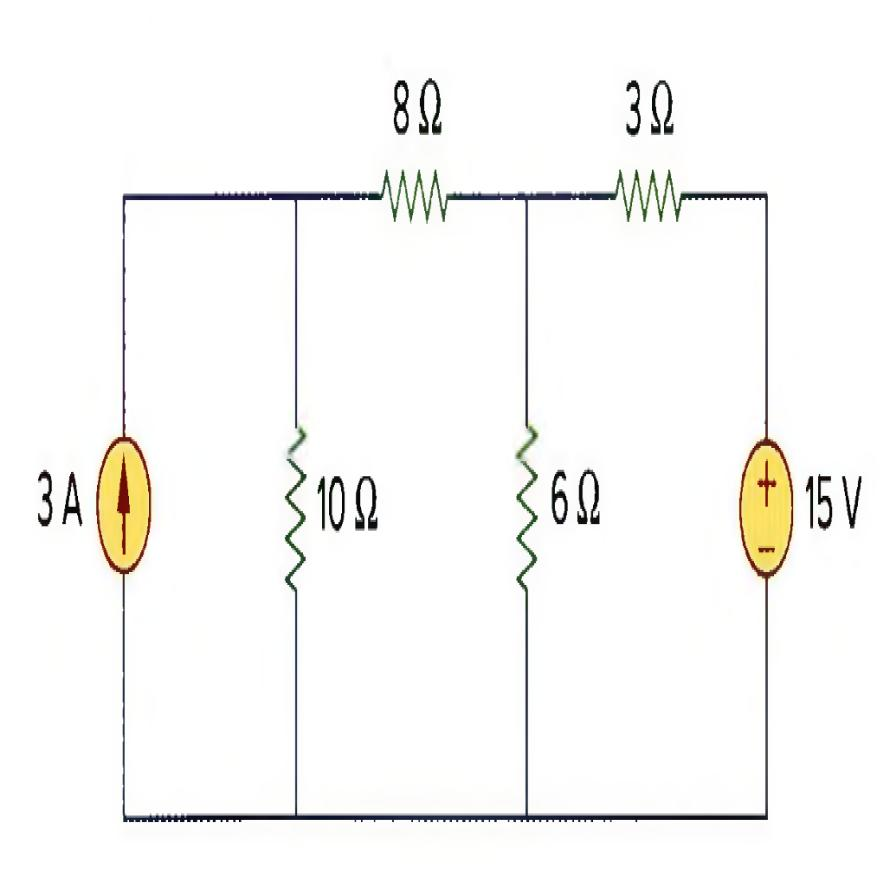I1: (94, 418, 158, 582)
R1: (596, 142, 699, 264), (366, 144, 463, 262)
R2: (269, 388, 313, 618), (504, 392, 545, 608)
V1: (732, 414, 798, 610)
